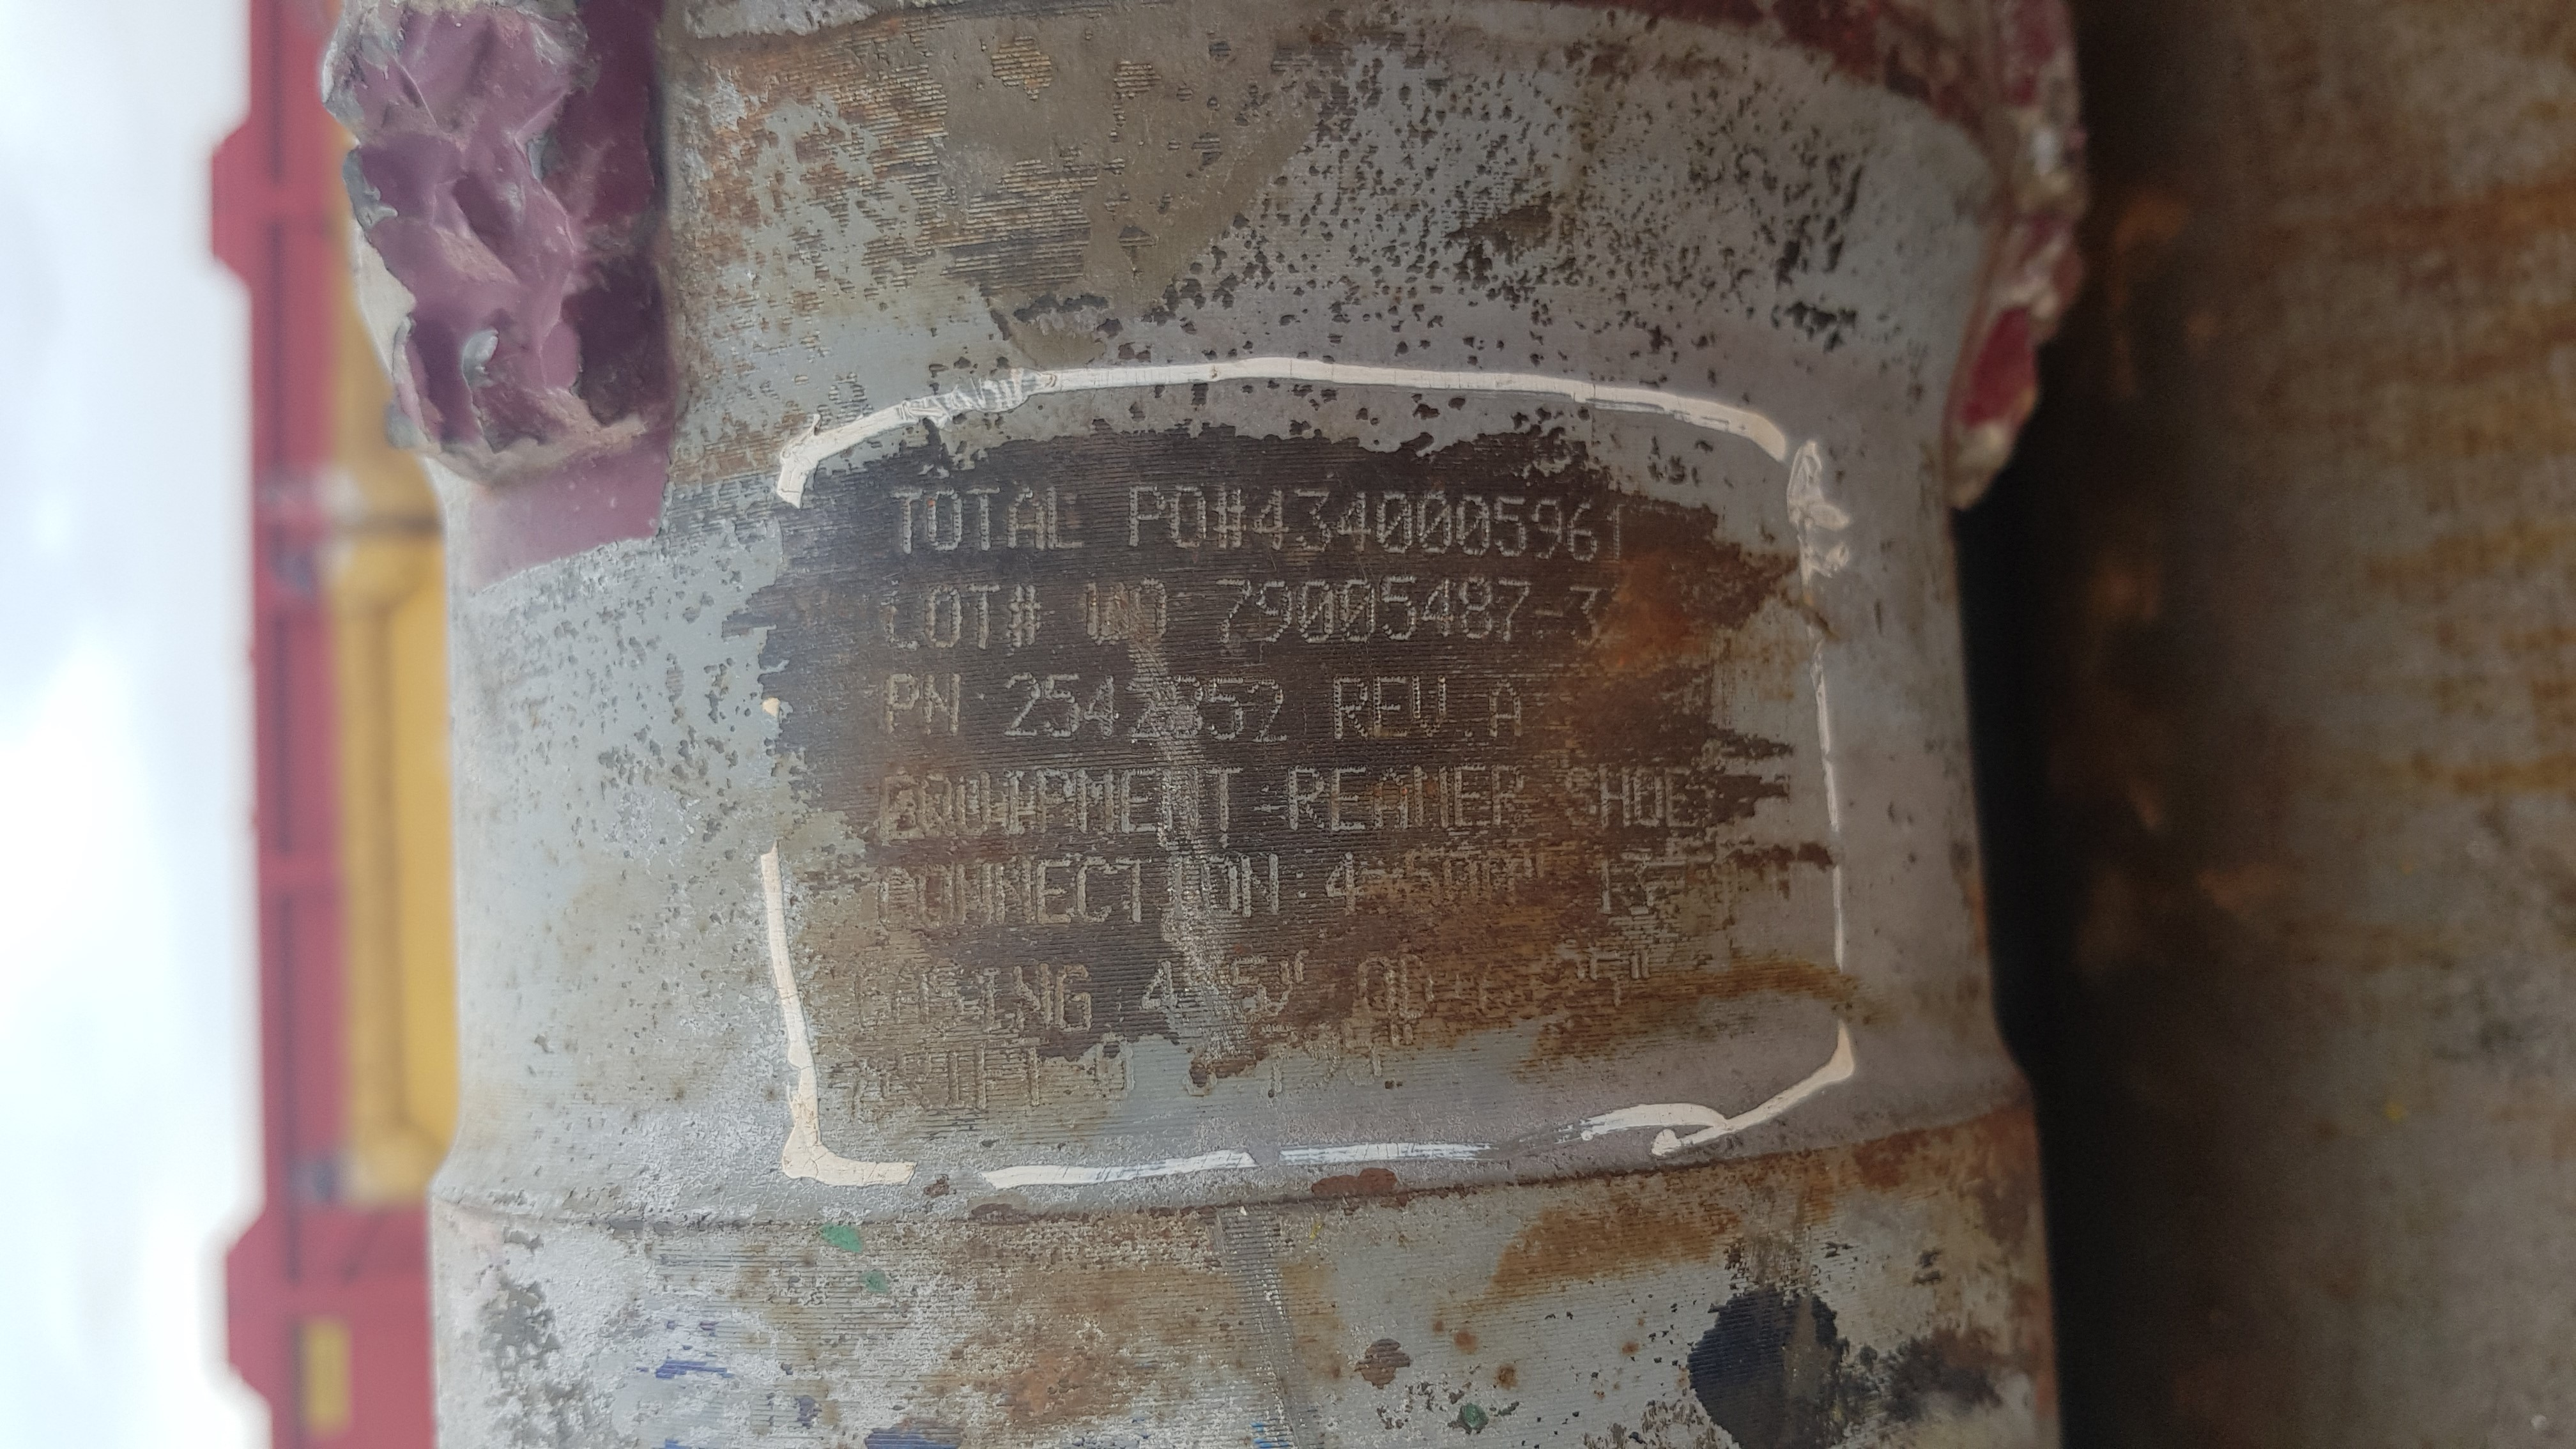character: (966, 1042, 1049, 1116), (1129, 955, 1189, 1040), (1217, 957, 1283, 1030), (1345, 1014, 1398, 1097), (1090, 1031, 1141, 1115), (888, 471, 929, 568), (1005, 962, 1054, 1040), (1398, 945, 1442, 1031), (1490, 847, 1541, 922), (1122, 474, 1166, 559), (1589, 941, 1628, 1037), (1042, 476, 1086, 559), (846, 959, 892, 1039), (1407, 663, 1454, 740), (1242, 672, 1292, 745), (1069, 766, 1120, 835), (1115, 853, 1159, 932), (1299, 1021, 1348, 1092), (1131, 570, 1173, 651), (1472, 945, 1513, 1030), (1320, 851, 1371, 918), (1394, 851, 1445, 918), (1249, 478, 1293, 556), (1353, 948, 1398, 1026), (1414, 487, 1458, 563), (1336, 573, 1380, 649), (1205, 669, 1251, 741), (1235, 853, 1284, 920), (1056, 959, 1095, 1044), (1562, 584, 1610, 653), (1661, 761, 1706, 835), (1488, 761, 1534, 832), (1589, 764, 1635, 835), (892, 952, 931, 1035), (931, 957, 968, 1044), (1292, 483, 1336, 556), (954, 768, 998, 840), (1449, 761, 1493, 833), (991, 858, 1035, 931), (1074, 855, 1118, 927), (1366, 672, 1412, 741), (1619, 851, 1665, 920), (1299, 570, 1338, 651), (1118, 764, 1159, 842), (1330, 764, 1371, 842), (1040, 667, 1083, 741), (1125, 674, 1168, 748), (1408, 761, 1451, 835), (1440, 851, 1490, 915), (1007, 481, 1046, 561), (1005, 575, 1046, 651), (895, 1042, 936, 1118), (916, 669, 962, 736), (1168, 479, 1210, 552), (878, 862, 920, 934), (1198, 851, 1240, 924), (1217, 573, 1256, 651), (1553, 950, 1592, 1028), (927, 485, 968, 559), (1368, 764, 1414, 830), (1378, 571, 1421, 642), (1207, 761, 1249, 832), (1159, 766, 1203, 833), (1212, 476, 1251, 552), (883, 580, 922, 656), (916, 860, 955, 936), (1005, 665, 1042, 745), (1456, 573, 1497, 646), (878, 771, 918, 844), (1587, 853, 1628, 925), (1566, 488, 1601, 571), (1493, 485, 1530, 563), (927, 579, 966, 653), (1081, 669, 1120, 743), (952, 858, 993, 929), (966, 577, 1003, 653), (1373, 485, 1412, 557), (1330, 671, 1369, 743), (968, 479, 1003, 559), (1458, 488, 1495, 563), (1500, 566, 1532, 653), (918, 768, 955, 842), (1288, 764, 1327, 833), (1486, 674, 1527, 740), (1530, 492, 1566, 566), (1168, 672, 1205, 743), (1564, 766, 1603, 832), (1421, 571, 1456, 642), (1035, 768, 1070, 839), (885, 667, 922, 734), (1338, 485, 1373, 554), (1037, 855, 1070, 927), (1628, 764, 1665, 828), (1261, 579, 1295, 646), (977, 962, 1005, 1042), (998, 764, 1026, 839), (1164, 855, 1192, 929), (1081, 577, 1108, 649), (943, 1047, 968, 1122), (1605, 497, 1629, 568), (1529, 598, 1569, 625)
